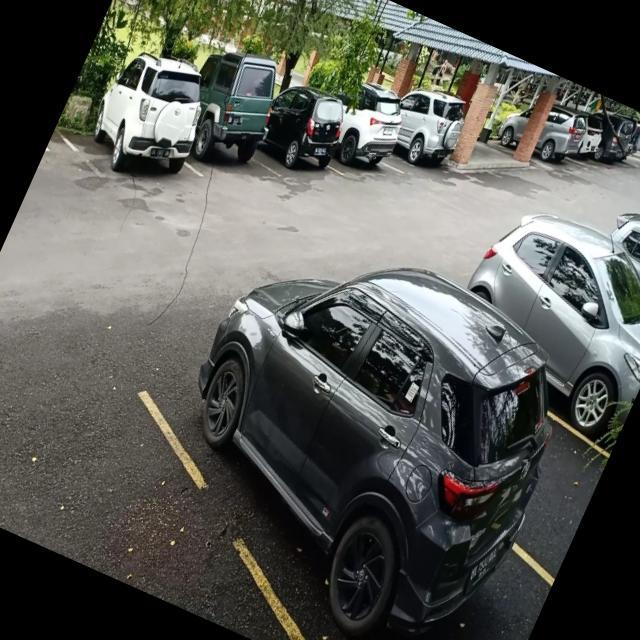occupied: (108, 239, 585, 640), (67, 62, 216, 212), (182, 62, 292, 196), (252, 86, 356, 196), (328, 94, 412, 192)
